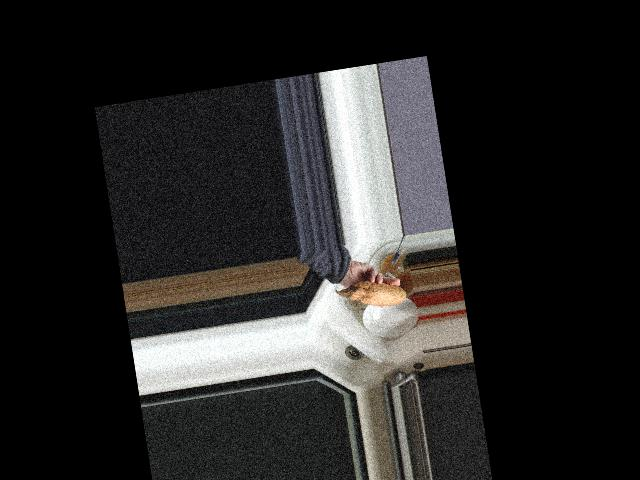sweet_potato: (334, 275, 407, 315)
